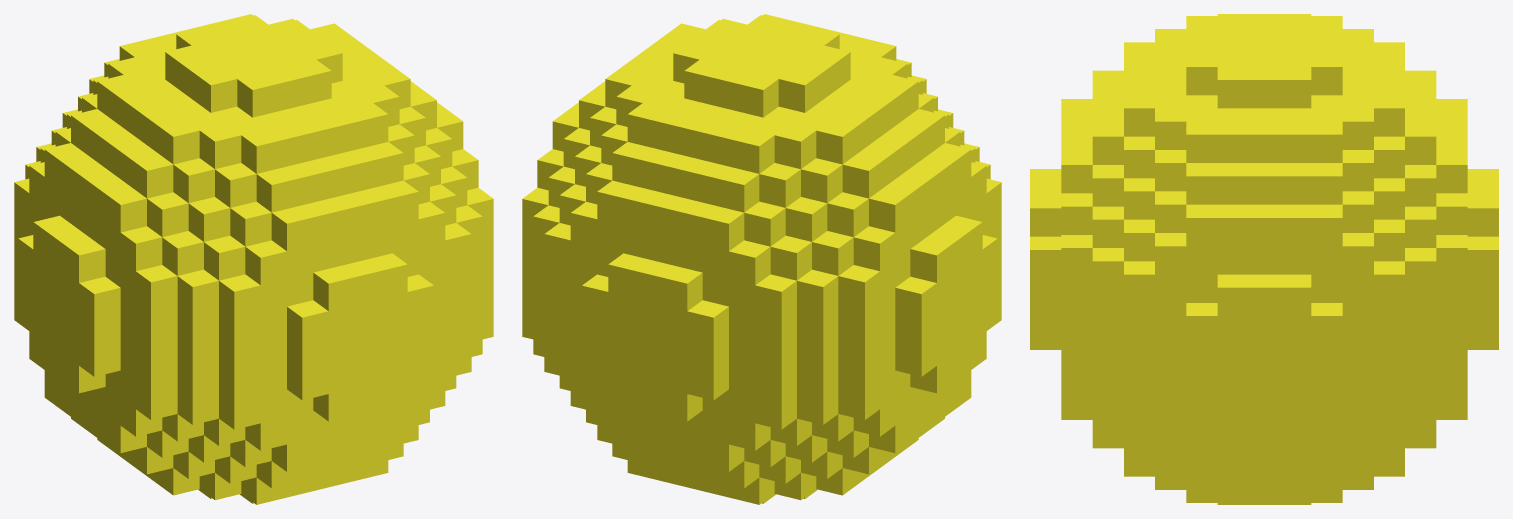
File: Yellow Ball.fbx
The picture shows the model from 3 angles, left to right: view 1: azimuth 30°, elevation 25°; view 2: azimuth 150°, elevation 25°; view 3: azimuth 270°, elevation 25°; orthographic projection. The views are drawn at different scales.
Visible parts, largest first — view 1: Untitled.001; view 2: Untitled.001; view 3: Untitled.001.
Part boxes in pixels (x1,y1,x2,y2): Untitled.001: (14, 14, 493, 504); Untitled.001: (522, 14, 1001, 504); Untitled.001: (1030, 14, 1498, 504).
Bounding box in the file's own units: 150 × 150 × 150.
